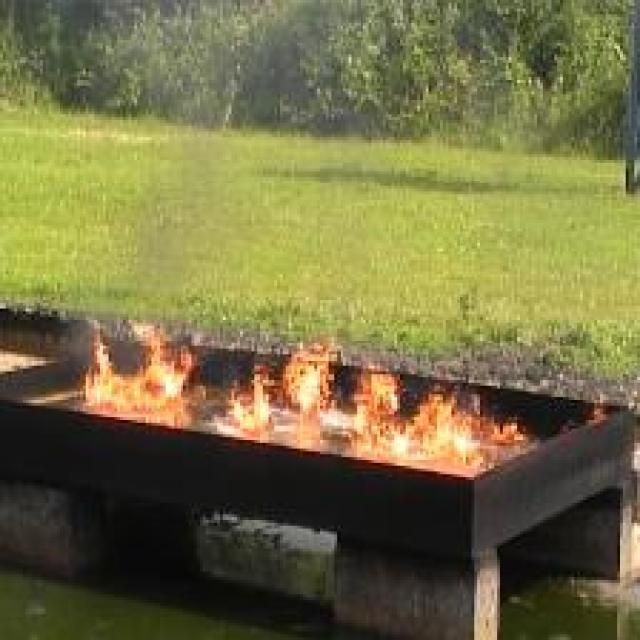Fire: (282, 342, 524, 468), (80, 326, 197, 412), (230, 364, 273, 432)
